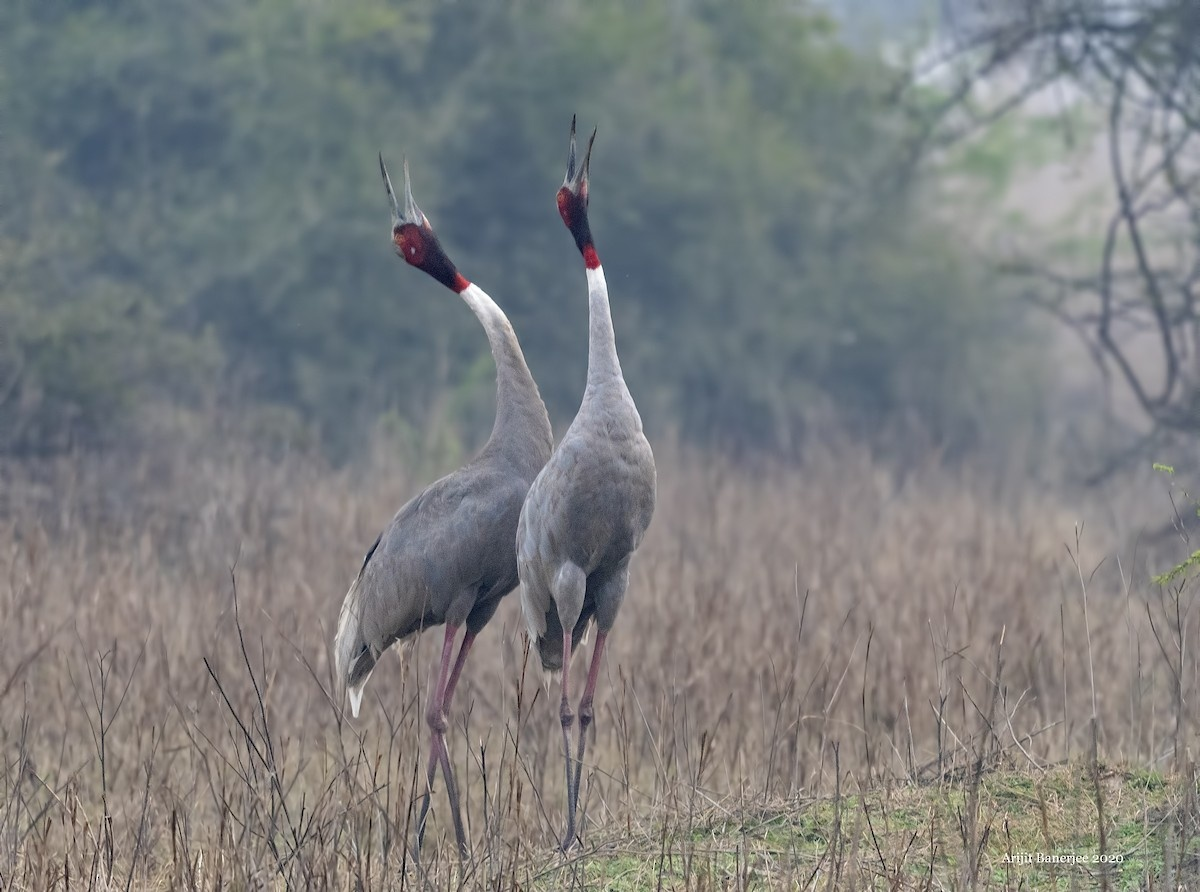crane: (357, 148, 533, 859), (519, 96, 663, 853)
